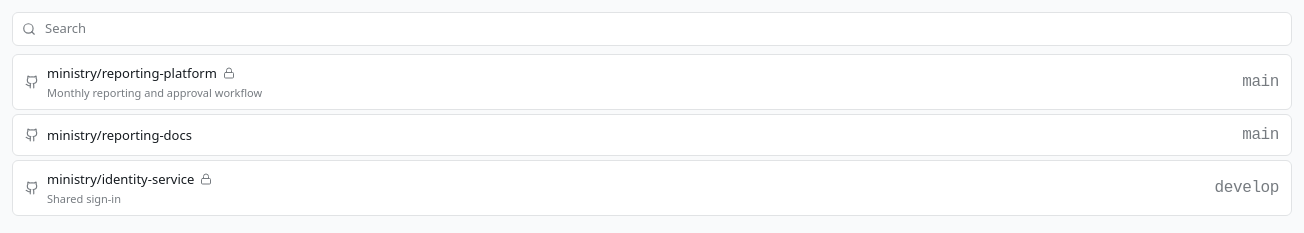
Test case: choosing a repository › filters the list
Type "identity" into the field named "filter repositories" at coordinates (652, 29), box 12,12 -> 1292,46
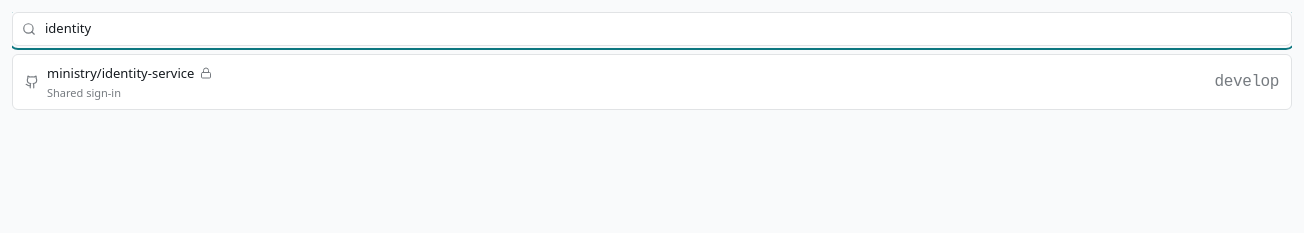
Check: the option "ministry/identity-service Shared sign-in develop" is shown, box 12,54 -> 1292,110
Check: the option "reporting-platform" is gone
